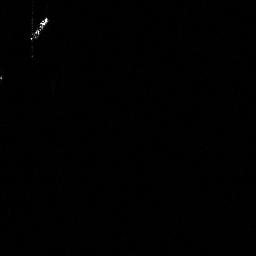ship: (24, 13, 53, 43)
